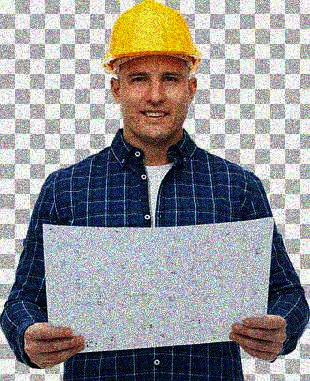helmet: (101, 1, 202, 142)
